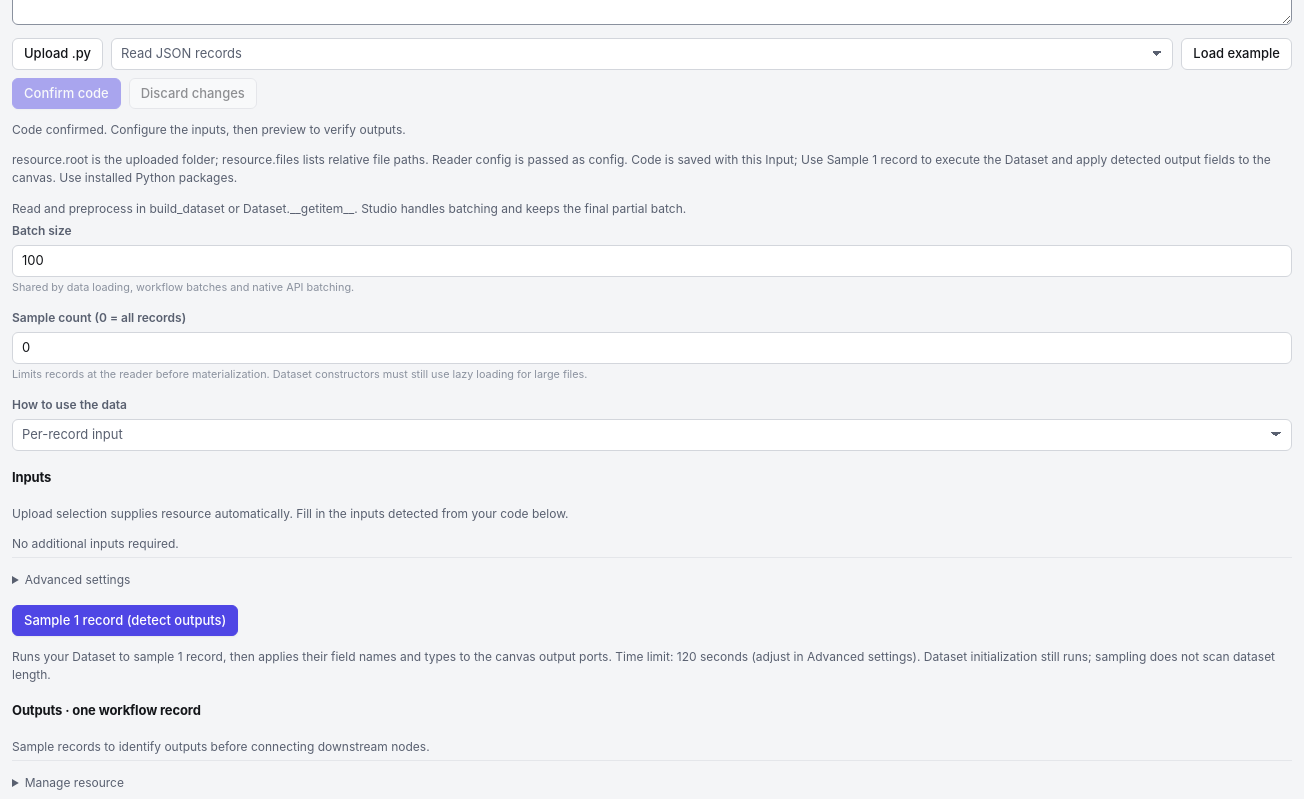
Test case: a slow sample › can be cancelled, and editing the Input stops the Dataset worker
The width and height of the screenshot is (1304, 799).
(page scrolled)
Click the button "Sample 1 record (detect outputs)". click: click(125, 620)
box: top-left (12, 605), bottom-right (238, 636)
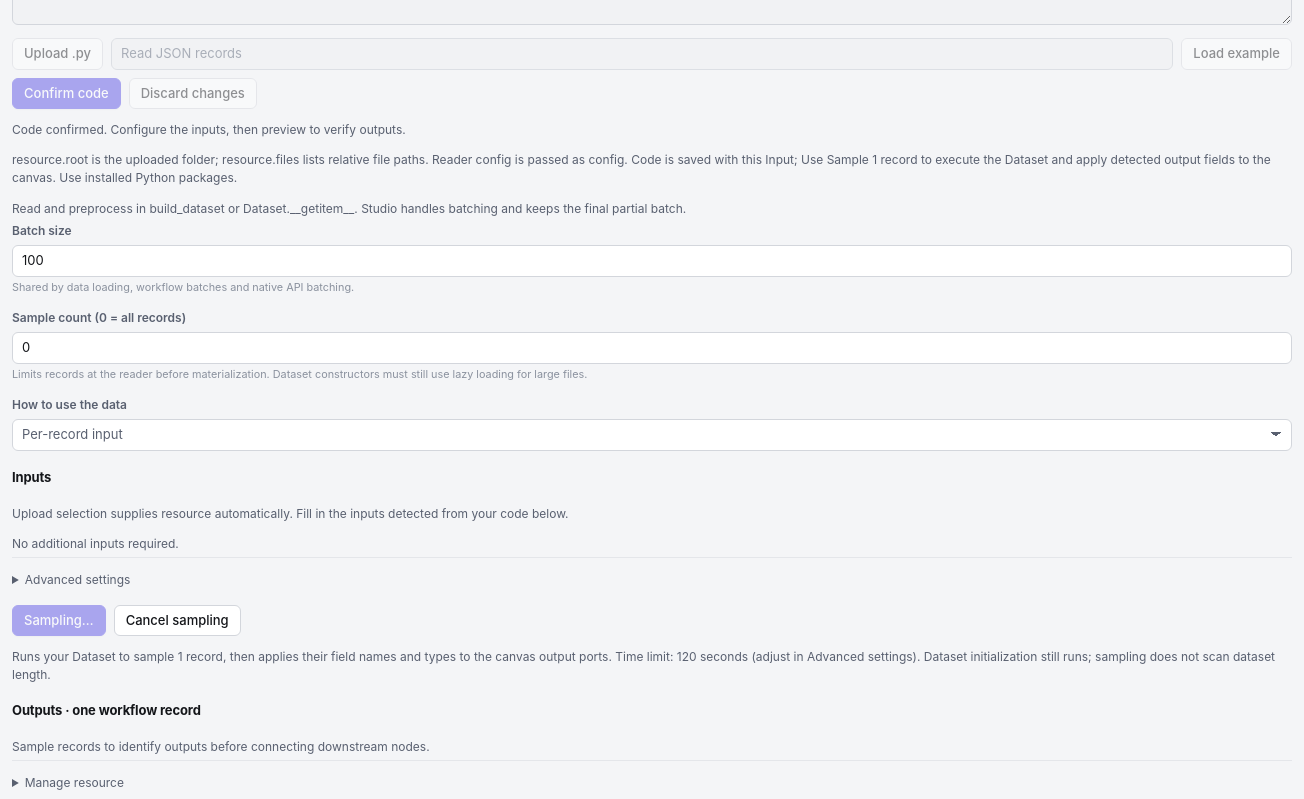
Click the button "Cancel sampling". click: click(177, 620)
box: top-left (114, 605), bottom-right (241, 636)
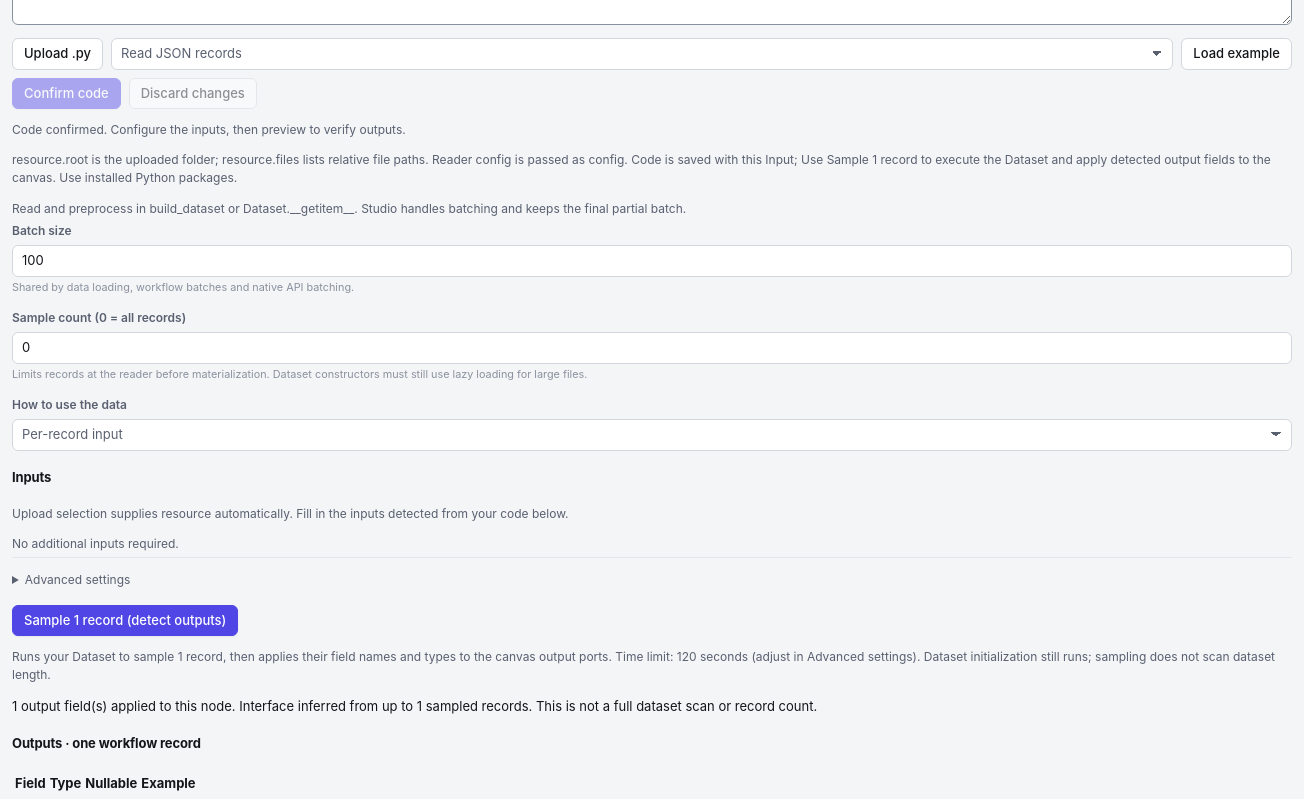
Expected: the button "Cancel sampling" is gone
